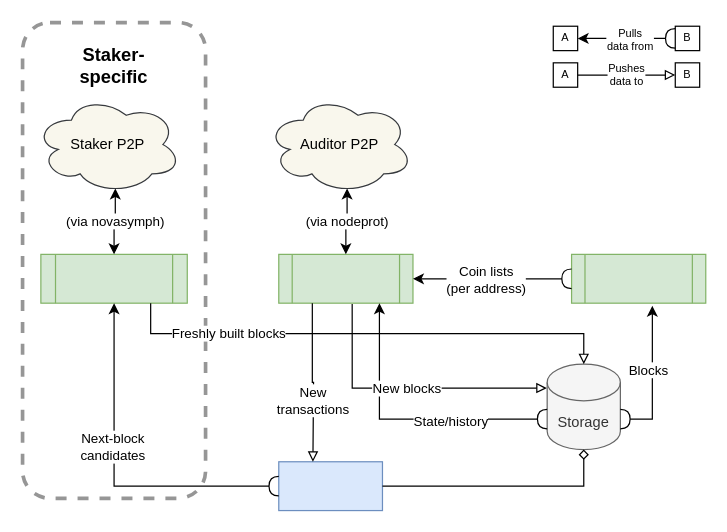
This 727x532 diagram has some shape labels left out. Here are the shapes that lost their labels. From the top down, the centre of each, then its label:
At [113,278]: "StakerProtocol".
At [345,278]: "NodeProtocol".
At [638,278]: "BlockIndexer".
At [330,486]: "Mempool".
